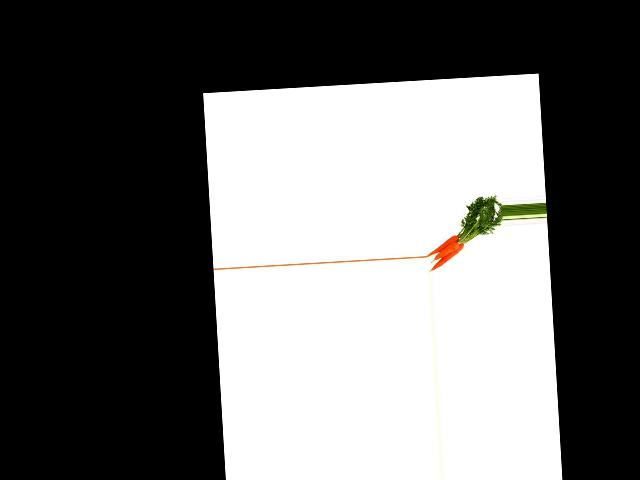carrot: (426, 234, 458, 257)
